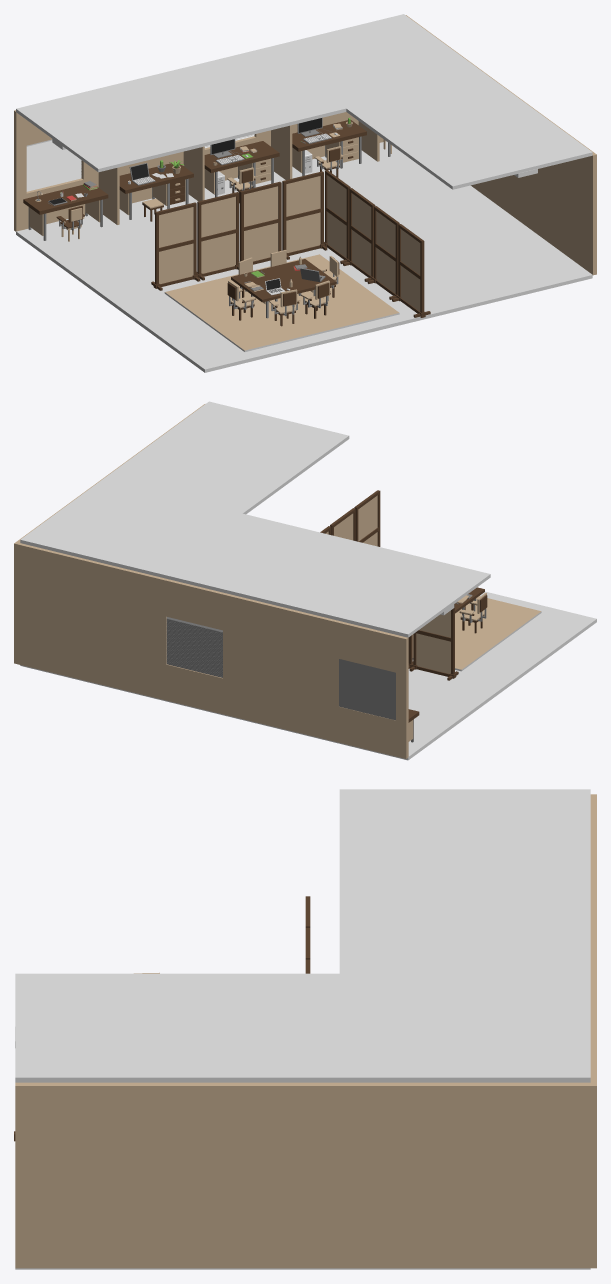
Rendered from furniture.fbx.
The picture shows the model from 3 angles, top to bottom: view 1: azimuth 30°, elevation 25°; view 2: azimuth 150°, elevation 25°; view 3: azimuth 270°, elevation 25°; orthographic projection. The views are drawn at different scales.
Visible parts, largest first — view 1: Плоскость.024, Плоскость.012, Куб.190, Куб.053, Куб.191, Куб.087, Куб, Куб.007, Куб.193, Куб.009, Куб.020, Куб.062 (+8 smaller); view 2: Куб.053, Плоскость.024, Плоскость.012, Куб.190, Куб.191, Куб.063; view 3: Куб.053, Плоскость.024, Плоскость.012.
Part boxes in pixels (box(x1,y1,x2,y2)): Плоскость.024: box(16, 14, 592, 189); Плоскость.012: box(16, 141, 592, 372); Куб.190: box(151, 171, 327, 290); Куб.053: box(14, 15, 596, 275); Куб.191: box(320, 170, 430, 317); Куб.087: box(26, 140, 81, 191); Куб: box(23, 185, 108, 240); Куб.007: box(119, 162, 193, 219); Куб.193: box(231, 259, 336, 318); Куб.009: box(204, 141, 279, 197); Куб.020: box(292, 120, 366, 175); Куб.062: box(271, 125, 292, 179); Куб.053: box(14, 404, 408, 758); Плоскость.024: box(20, 401, 490, 637); Плоскость.012: box(20, 591, 596, 760); Куб.190: box(408, 604, 458, 680); Куб.191: box(320, 490, 380, 546); Куб.063: box(459, 593, 487, 633); Куб.053: box(15, 794, 596, 1268); Плоскость.024: box(15, 789, 590, 1082); Плоскость.012: box(15, 1268, 590, 1269).
Size of the model in its own units: 85.6 by 26.29 by 72.34.
